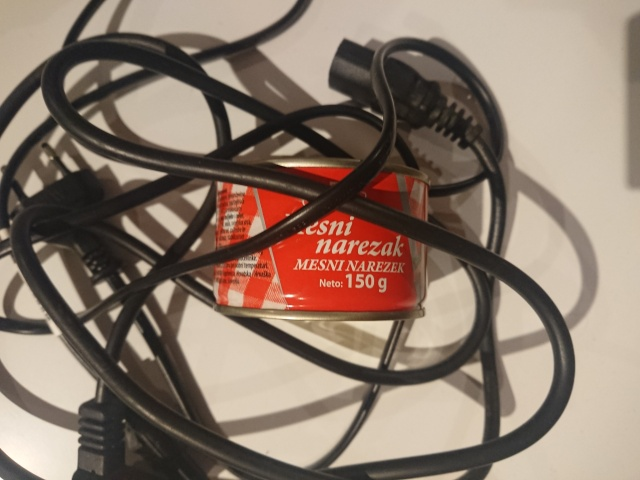Podravka Luncheon Meat 150g: (207, 154, 431, 326)
